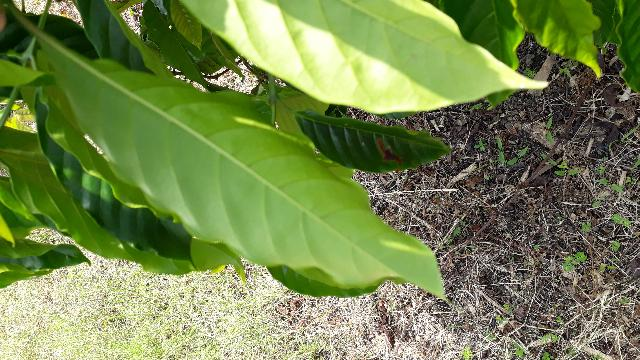healthy: (40, 27, 453, 307)
